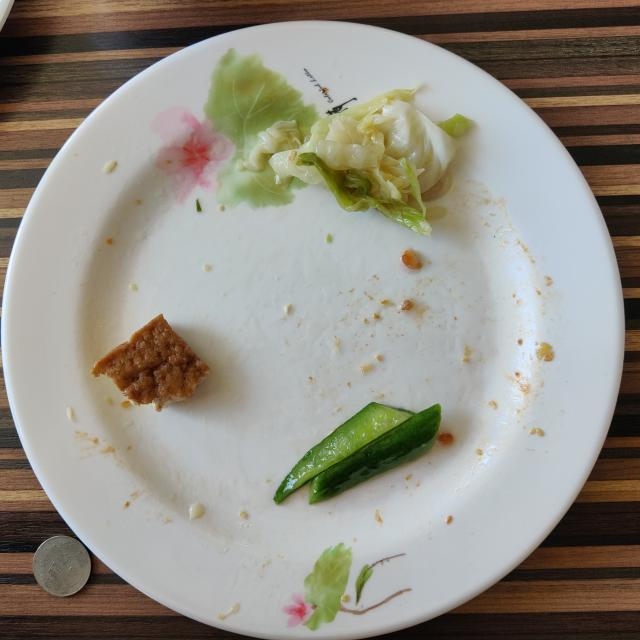cabbage: (239, 89, 472, 235)
coin: (32, 536, 91, 596)
cucumber: (274, 402, 441, 504)
egg tofu: (91, 314, 210, 411)
